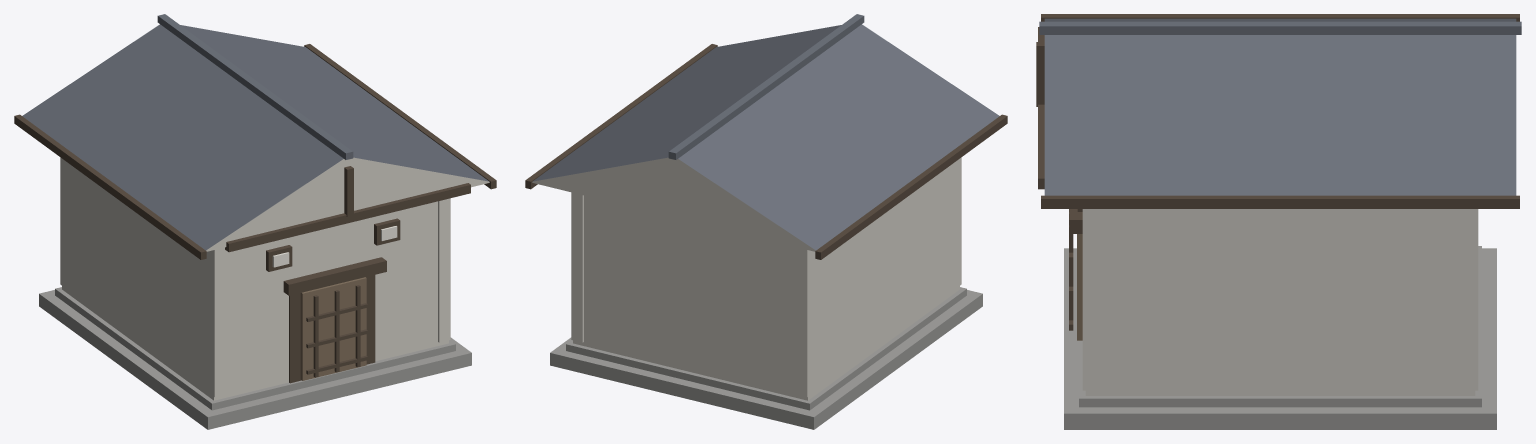
File: family_kura_compact.glb
3 views of the same model, side by side, from view 1: azimuth 30°, elevation 25°; view 2: azimuth 150°, elevation 25°; view 3: azimuth 270°, elevation 25° (orthographic). The views are drawn at different scales.
Visible parts, largest first — view 1: family_kura_compact; view 2: family_kura_compact; view 3: family_kura_compact.
Boxes of the visible parts, x1,y1,x2,y2 form: family_kura_compact: [14, 14, 496, 429]; family_kura_compact: [525, 14, 1007, 429]; family_kura_compact: [1036, 14, 1521, 429].
Bounding box in the file's own units: 7.3 × 5.95 × 8.09.
